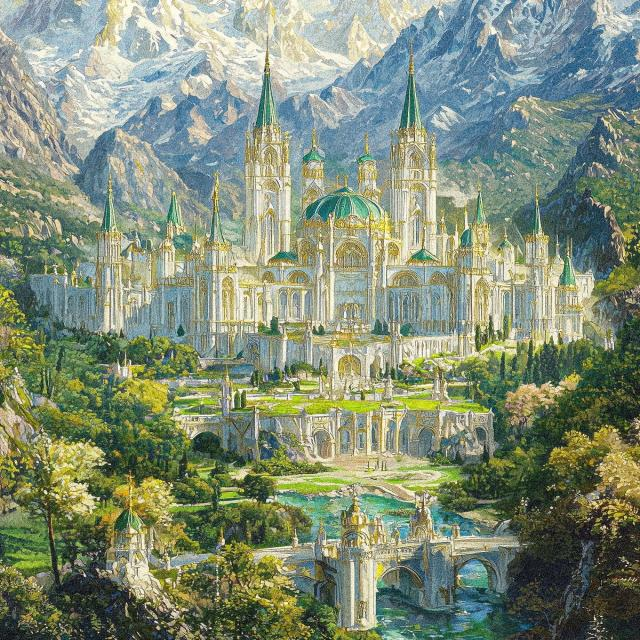castle: (17, 0, 634, 474)
